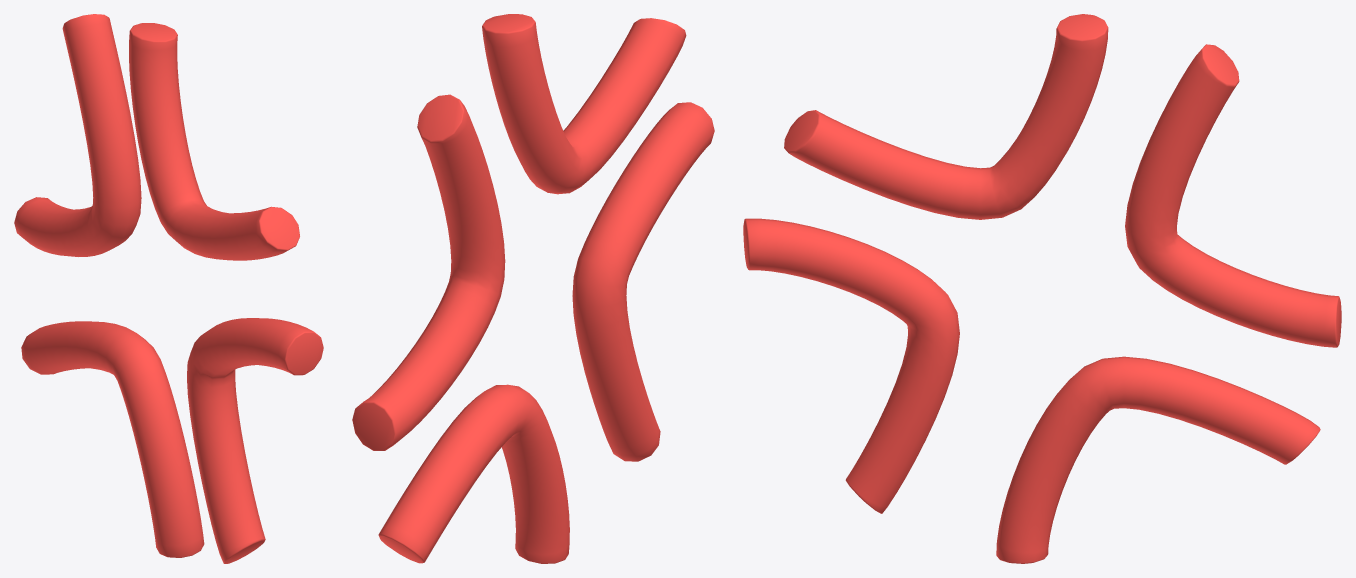
Rendered from DamageBoost.fbx.
The picture shows the model from 3 angles, left to right: view 1: azimuth 30°, elevation 25°; view 2: azimuth 150°, elevation 25°; view 3: azimuth 270°, elevation 25°; orthographic projection. The views are drawn at different scales.
Parts seen in each view (by area): view 1: BézierCurve.001; view 2: BézierCurve.001; view 3: BézierCurve.001.
Part boxes in pixels (left/top/right/bottom): BézierCurve.001: left=14, top=14, right=323, bottom=563; BézierCurve.001: left=352, top=14, right=714, bottom=563; BézierCurve.001: left=743, top=14, right=1341, bottom=563.
Bounding box in the file's own units: 47.93 × 410 × 415.
